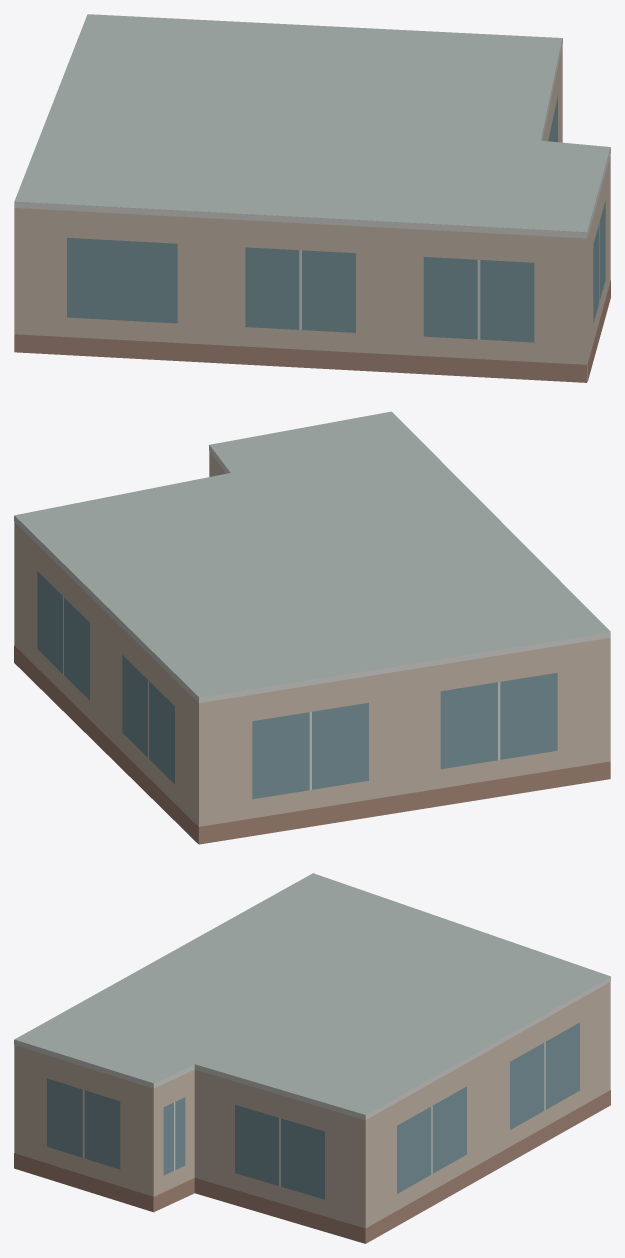
Rendered from survey-upis-32953407.glb.
3 views of the same model, one above another, from view 1: azimuth 30°, elevation 25°; view 2: azimuth 150°, elevation 25°; view 3: azimuth 270°, elevation 25° (orthographic). The views are drawn at different scales.
Visible parts, largest first — view 1: survey-upis-32953407.tmp; view 2: survey-upis-32953407.tmp; view 3: survey-upis-32953407.tmp.
Boxes of the visible parts, box(x1,y1,x2,y2) form: survey-upis-32953407.tmp: box(14, 14, 610, 382); survey-upis-32953407.tmp: box(14, 411, 610, 844); survey-upis-32953407.tmp: box(14, 873, 610, 1243).
Size of the model in its own units: 12.28 by 3.05 by 12.8.
